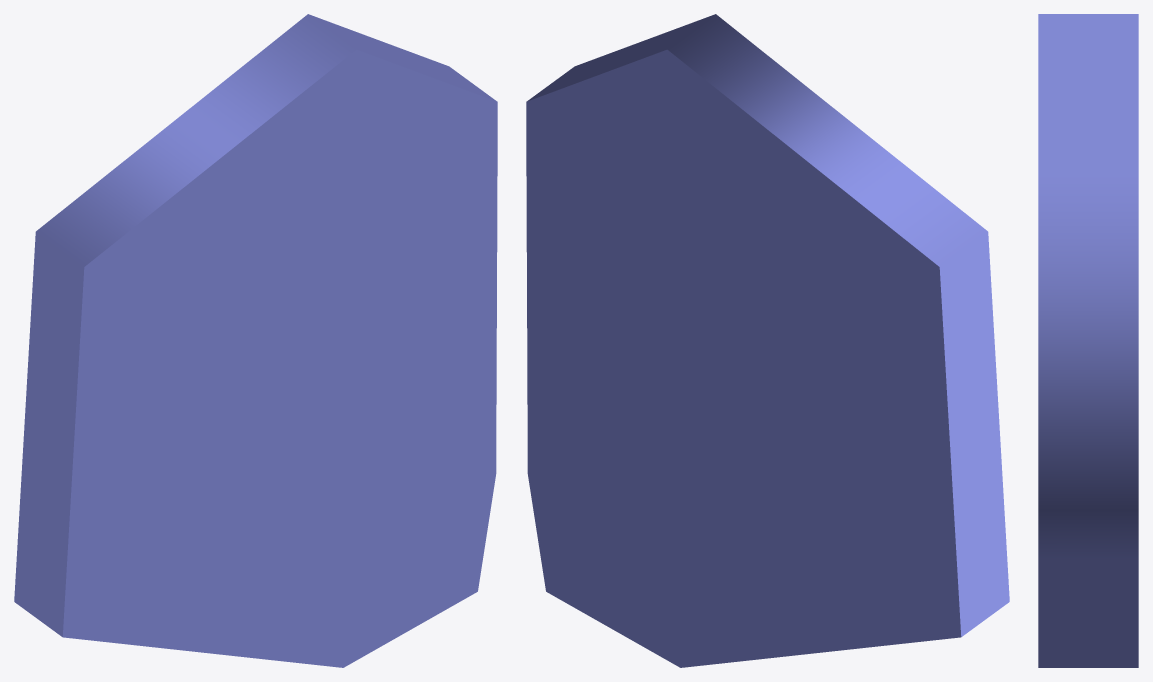
The model's file is cutCubeStand.fbx.
3 views of the same model, side by side, from view 1: azimuth 30°, elevation 25°; view 2: azimuth 150°, elevation 25°; view 3: azimuth 270°, elevation 25° (orthographic). The views are drawn at different scales.
Parts seen in each view (by area): view 1: root.001; view 2: root.001; view 3: root.001.
Part boxes in pixels (x1,y1,x2,y2): root.001: [14, 14, 497, 667]; root.001: [526, 14, 1009, 667]; root.001: [1038, 14, 1138, 667].
Bounding box in the file's own units: 296 × 400 × 57.18.
